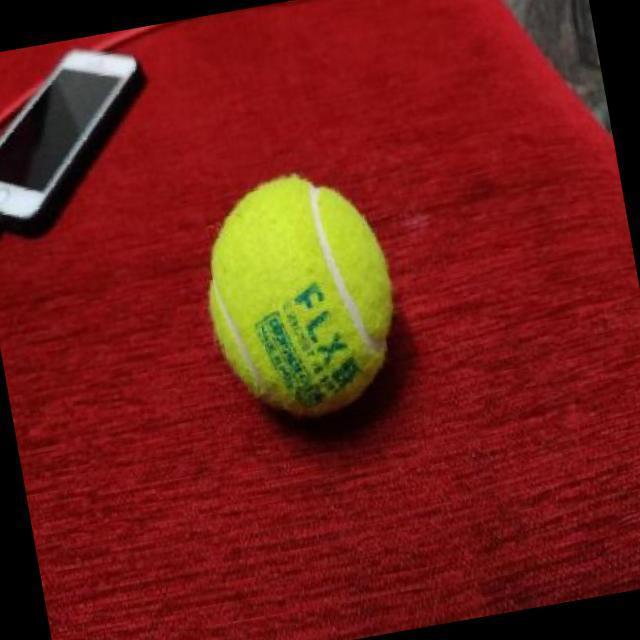-: (170, 134, 436, 463)
